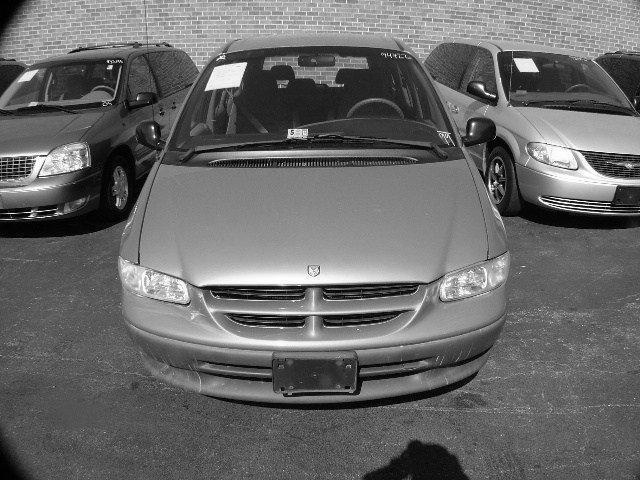car: (117, 31, 516, 415)
